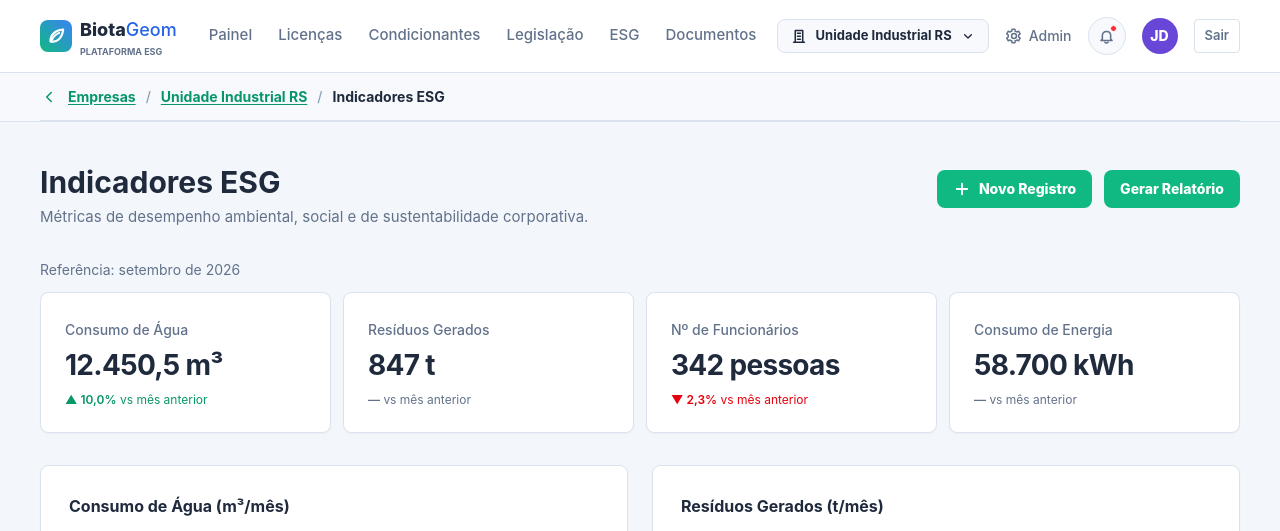
CompanyIndicatorsPage › opens "Novo Registro" modal with the company indicators
Expected: the text "Consumo de Água" is shown, [65,321,188,338]
Click the button "Novo Registro" at (1014, 189), box [937,170,1092,208]
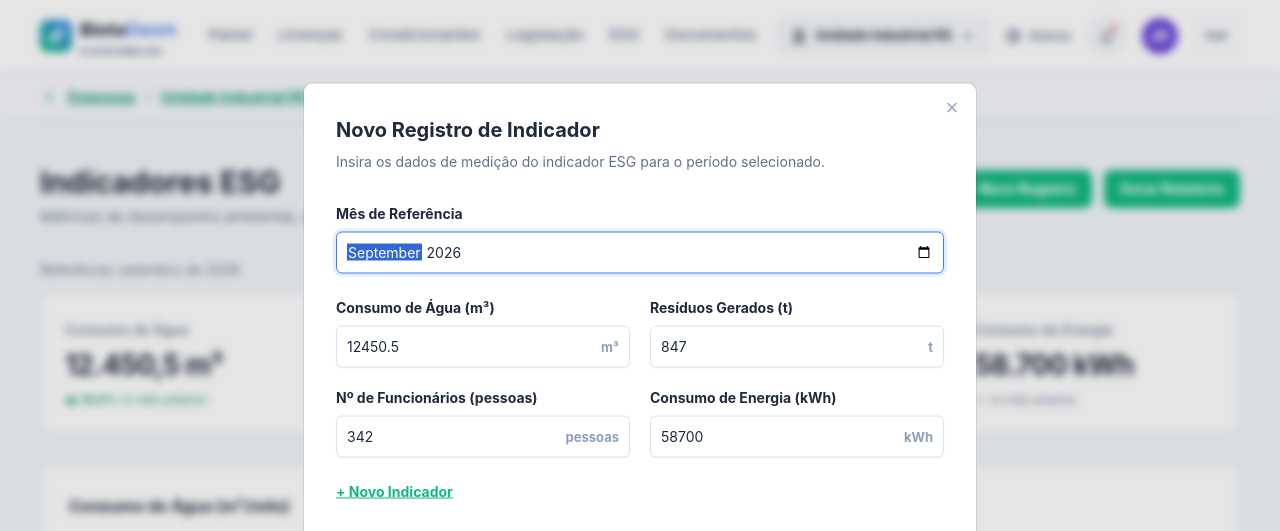
Expected: the heading "Novo Registro de Indicador" is shown, [336,118,600,142]
